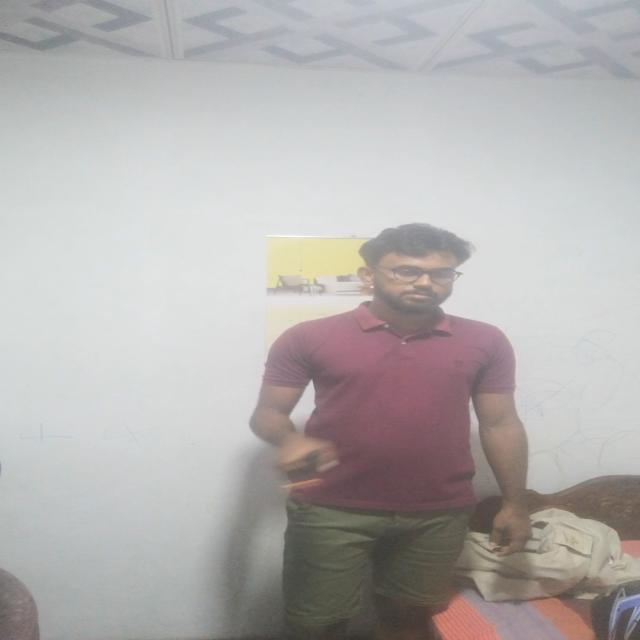Gun_Holder: (256, 432, 344, 492)
Person: (240, 226, 542, 640)
